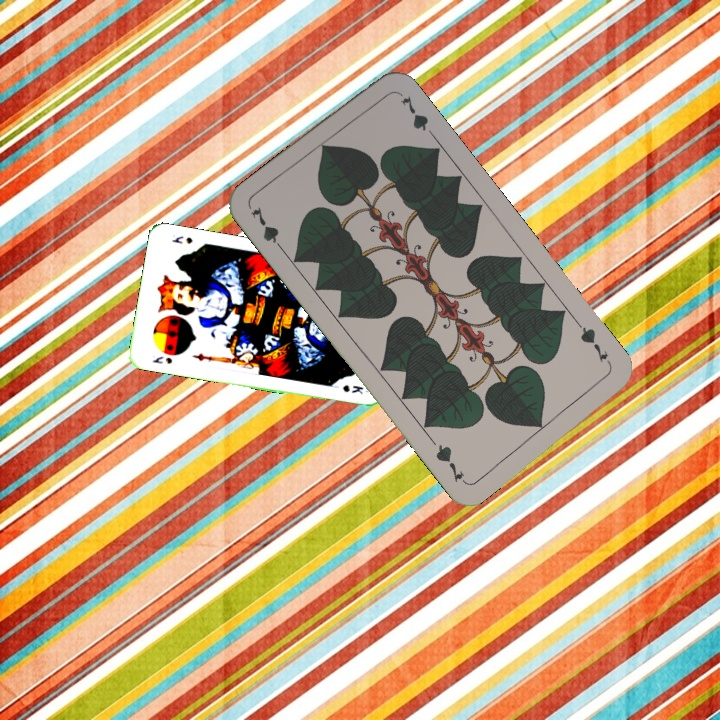G7: (246, 202, 288, 256), (573, 319, 615, 370)
SK: (148, 351, 175, 366)
